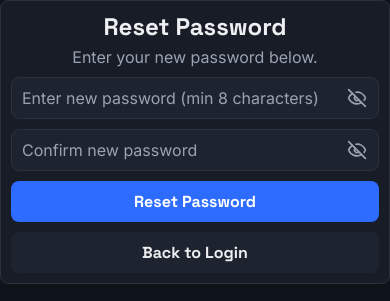
Scenario: /reset-password page › clears the cached NextAuth session after a successful reset
The image size is (390, 301).
Type "NewPassword123" into the password field with placeholder "Enter new password (min 8 characters)".
click(195, 98); type("NewPassword123")  # box [11,77,379,119]
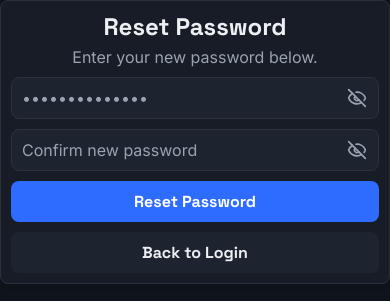
Type "NewPassword123" into the password field with placeholder "Confirm new password".
click(195, 150); type("NewPassword123")  # box [11,129,379,171]
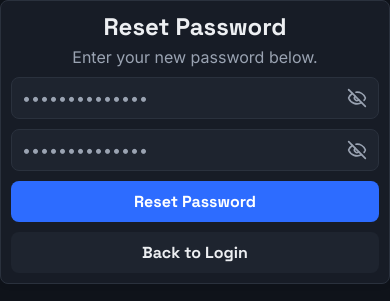
Click the button "Reset Password".
click(195, 202)  # box [11,181,379,222]
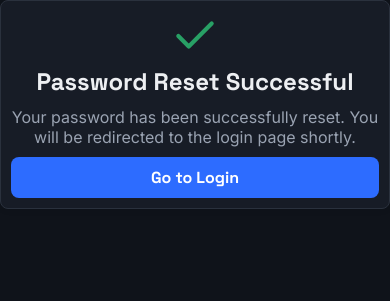
Result: the heading "Password Reset Successful" is shown at [36,66,354,97]
